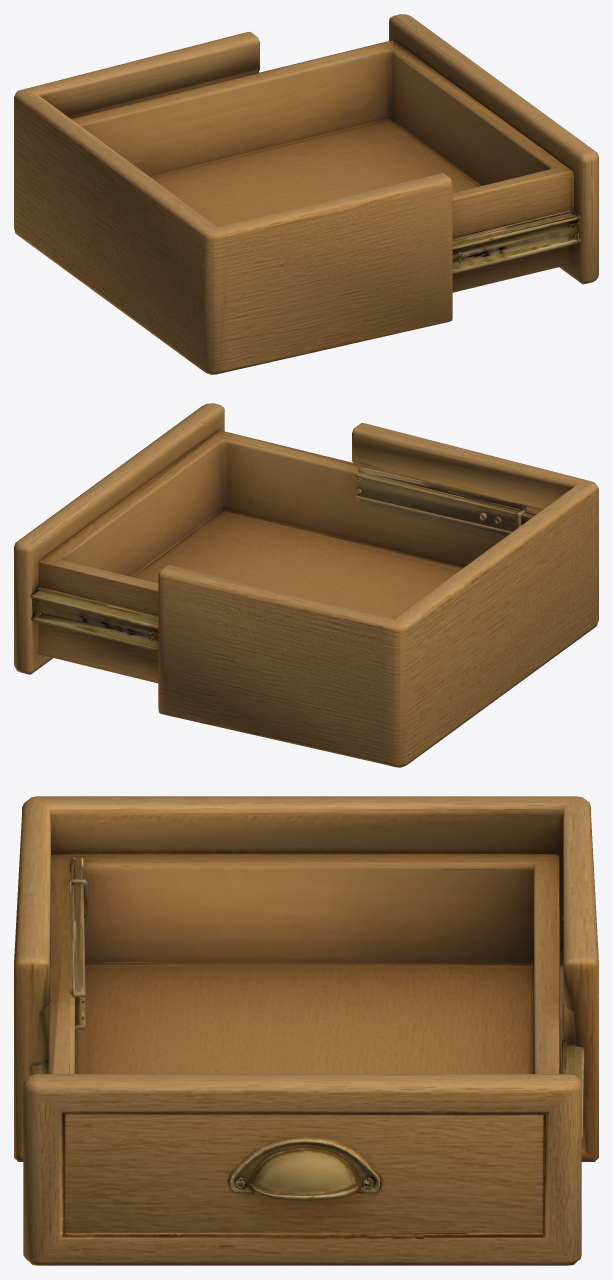
File: drawer-capture-lod0.glb
3 renders of one model, top to bottom at view 1: azimuth 30°, elevation 25°; view 2: azimuth 150°, elevation 25°; view 3: azimuth 270°, elevation 25°, orthographic. The views are drawn at different scales.
Parts seen in each view (by area): view 1: tripo_part_0, tripo_part_4, tripo_part_10, tripo_part_18; view 2: tripo_part_0, tripo_part_4, tripo_part_10, tripo_part_13, tripo_part_2, tripo_part_6; view 3: tripo_part_4, tripo_part_10, tripo_part_0, tripo_part_13, tripo_part_2.
Boxes of the visible parts, left/top/right/bottom form: tripo_part_0: left=14, top=31, right=452, bottom=374; tripo_part_4: left=71, top=40, right=573, bottom=292; tripo_part_10: left=389, top=14, right=598, bottom=284; tripo_part_18: left=452, top=209, right=580, bottom=273; tripo_part_0: left=158, top=423, right=598, bottom=767; tripo_part_4: left=38, top=430, right=542, bottom=683; tripo_part_10: left=14, top=403, right=224, bottom=674; tripo_part_13: left=355, top=466, right=535, bottom=531; tripo_part_2: left=30, top=587, right=158, bottom=650; tripo_part_6: left=354, top=474, right=526, bottom=533; tripo_part_4: left=48, top=853, right=560, bottom=1073; tripo_part_10: left=23, top=1074, right=581, bottom=1265; tripo_part_0: left=14, top=796, right=598, bottom=1161; tripo_part_13: left=69, top=859, right=85, bottom=1025; tripo_part_2: left=562, top=1040, right=584, bottom=1140.
Size of the model in its own units: 1 by 0.3307 by 0.863.
Materials: 96 (96 with a texture image).
